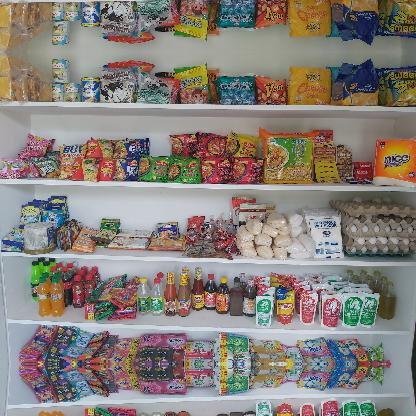Lady-s-Choice: (23, 222, 55, 254)
